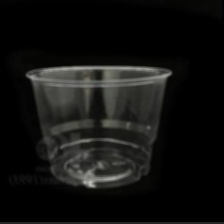glass: (20, 62, 175, 190)
